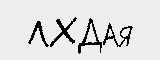А: (103, 21, 119, 50)
Д: (76, 15, 102, 57)
Л: (26, 18, 50, 50)
Х: (49, 16, 78, 48)
Я: (117, 24, 133, 49)
